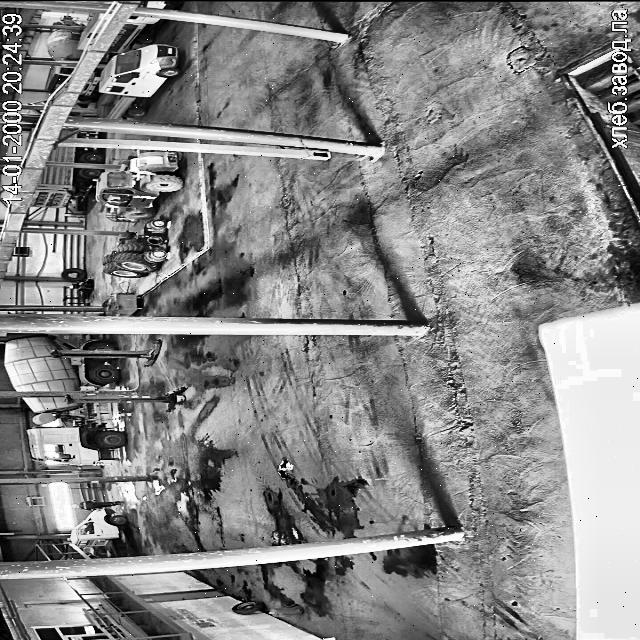car lift: (52, 340, 161, 366), (66, 388, 185, 411)
fire extinguisher: (268, 606, 301, 616)
mechanic: (71, 500, 122, 510)
tractor: (96, 151, 181, 222), (102, 220, 166, 278)
truck: (22, 396, 124, 464), (4, 334, 117, 392), (99, 44, 180, 119), (28, 167, 100, 207), (70, 508, 126, 555), (108, 16, 158, 52), (46, 30, 81, 60), (48, 146, 101, 163), (78, 13, 101, 48), (77, 71, 99, 105), (46, 66, 73, 92), (140, 0, 179, 8), (74, 132, 97, 140), (55, 18, 76, 24), (60, 130, 70, 136)
